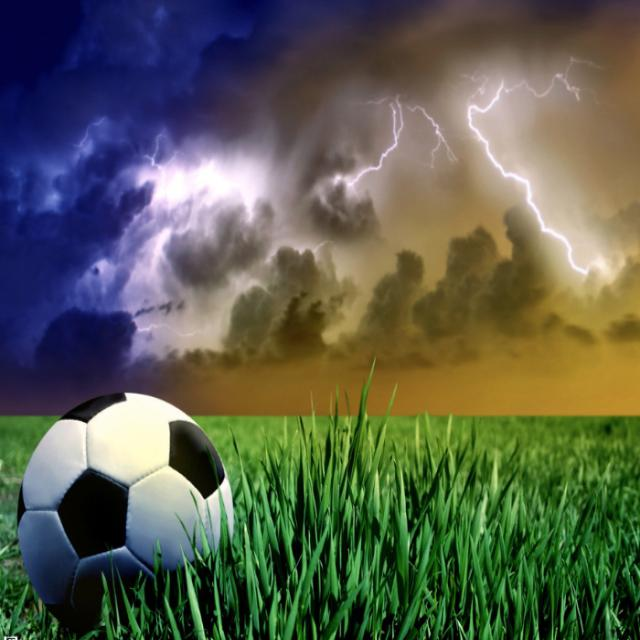football: (12, 362, 262, 636)
